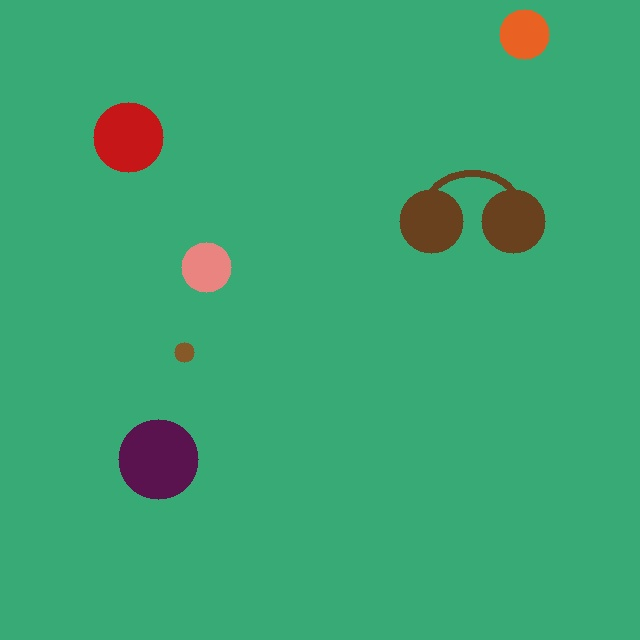over_ear: (395, 161, 549, 257)
